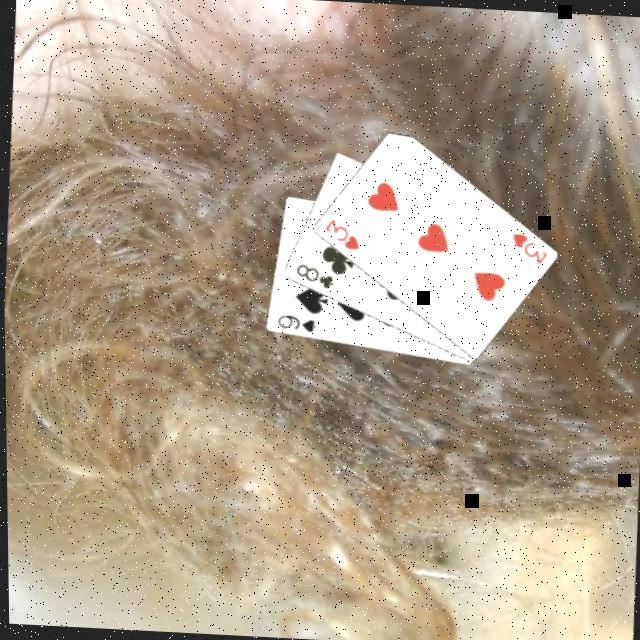3H: (508, 228, 552, 266), (321, 213, 363, 252)
8C: (293, 259, 339, 291)
9S: (275, 310, 320, 334)
